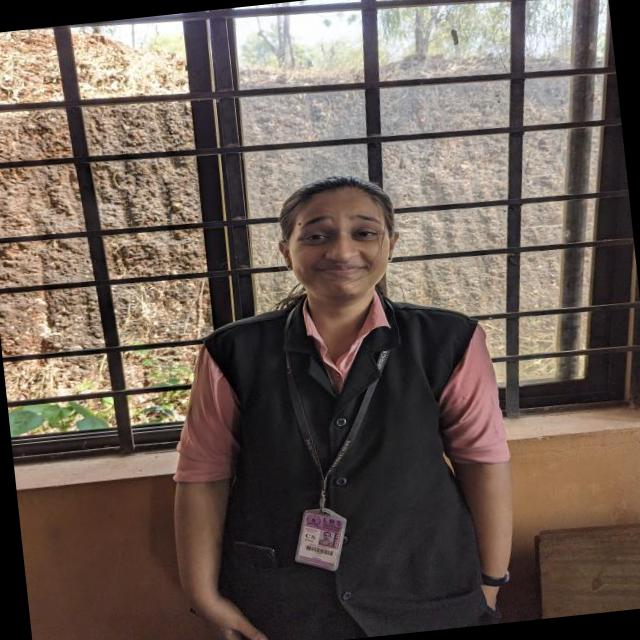id_card: (270, 325, 414, 577)
